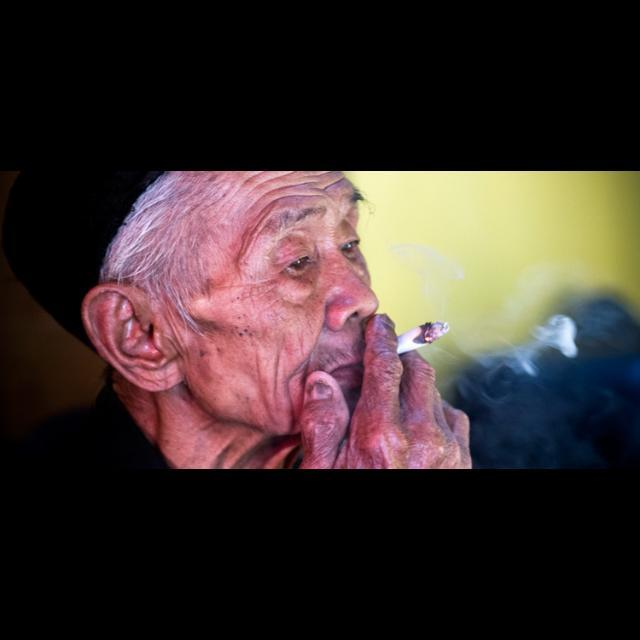rokok: (391, 317, 449, 359)
